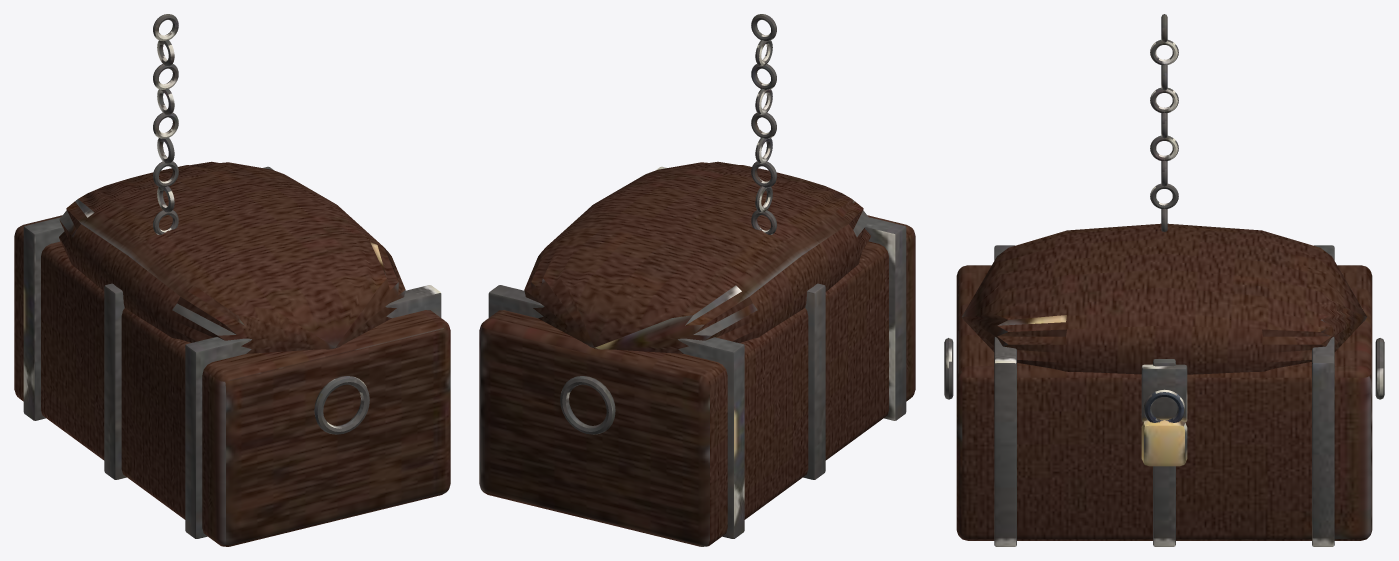
The model's file is locker.glb.
3 renders of one model, left to right at view 1: azimuth 30°, elevation 25°; view 2: azimuth 150°, elevation 25°; view 3: azimuth 270°, elevation 25°, orthographic.
Visible parts, largest first — view 1: chest, lid, band-0.42, band0.42, band0.0, handle-1; view 2: chest, lid, band0.42, band-0.42, band0.0, handle1; view 3: chest, lid, band0.42, band-0.42, padlock, hasp, band0.0, shackle, handle1, handle-1.
Boxes of the visible parts, x1,y1,x2,y2 form: chest: [14, 215, 450, 546]; lid: [59, 161, 405, 353]; band-0.42: [185, 285, 441, 538]; band0.42: [23, 166, 274, 420]; band0.0: [104, 283, 126, 479]; handle-1: [314, 376, 369, 434]; chest: [479, 215, 915, 546]; lid: [524, 161, 870, 353]; band0.42: [488, 285, 744, 538]; band-0.42: [655, 166, 906, 420]; band0.0: [803, 283, 825, 479]; handle1: [560, 376, 615, 434]; chest: [956, 265, 1372, 540]; lid: [962, 223, 1366, 374]; band0.42: [1312, 245, 1334, 546]; band-0.42: [994, 245, 1016, 546]; padlock: [1141, 419, 1187, 466]; hasp: [1141, 364, 1187, 422]; band0.0: [1153, 359, 1175, 546]; shackle: [1143, 389, 1185, 422]; handle1: [1375, 338, 1384, 399]; handle-1: [944, 338, 953, 399].
Size of the model in its own units: 0.795 by 1.29 by 1.16.
Materials: 1 (1 with a texture image).
